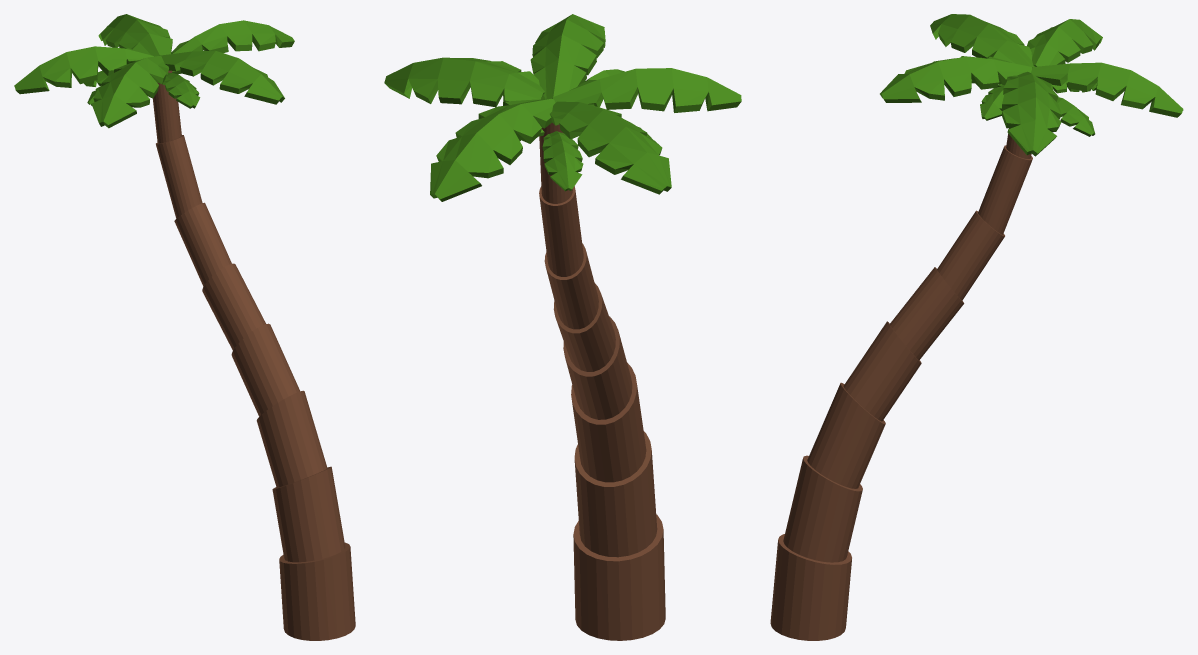
File: Palm.glb
3 views of the same model, side by side, from view 1: azimuth 30°, elevation 25°; view 2: azimuth 150°, elevation 25°; view 3: azimuth 270°, elevation 25° (orthographic). The views are drawn at different scales.
Parts seen in each view (by area): view 1: Cylinder.001, Plane.003, Plane.002, Plane.004, Plane.001, Plane, Plane.007; view 2: Cylinder.001, Plane, Plane.004, Plane.001, Plane.003, Plane.002, Plane.009; view 3: Cylinder.001, Plane.002, Plane, Plane.001, Plane.003, Plane.004, Plane.005, Plane.006.
Boxes of the visible parts, box(x1,y1,x2,y2) form: Cylinder.001: box(153, 70, 355, 640); Plane.003: box(91, 55, 168, 128); Plane.002: box(161, 50, 284, 104); Plane.004: box(14, 46, 153, 94); Plane.001: box(171, 20, 294, 53); Plane: box(98, 14, 172, 56); Plane.007: box(162, 72, 200, 108); Cylinder.001: box(539, 122, 665, 640); Plane: box(430, 98, 555, 201); Plane.004: box(550, 101, 671, 194); Plane.001: box(384, 57, 545, 107); Plane.003: box(553, 68, 741, 112); Plane.002: box(530, 14, 605, 99); Plane.009: box(542, 131, 583, 191); Cylinder.001: box(770, 128, 1032, 640); Plane.002: box(880, 56, 1032, 102); Plane: box(1031, 62, 1183, 117); Plane.001: box(1002, 71, 1061, 156); Plane.003: box(930, 14, 1034, 67); Plane.004: box(1027, 19, 1102, 66); Plane.005: box(1056, 97, 1095, 136); Plane.006: box(980, 84, 1004, 120).
Bounding box in the file's own units: 3.97 × 7.99 × 5.37.
